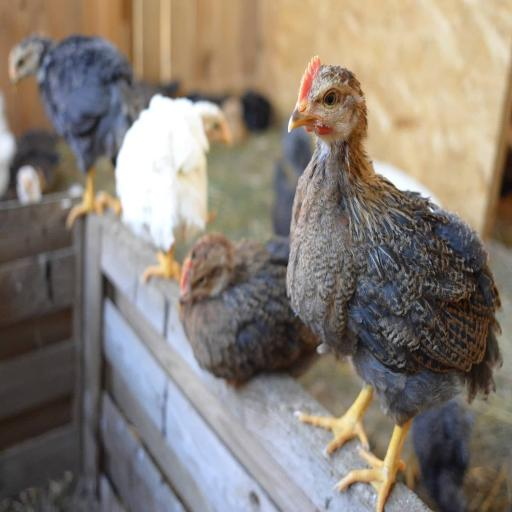disease: (310, 78, 358, 137)
